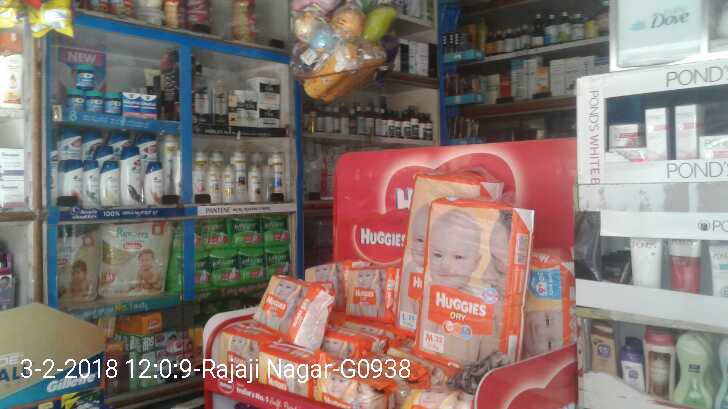beauty: (120, 144, 142, 208), (61, 157, 81, 206), (265, 151, 284, 202), (143, 161, 163, 206), (100, 159, 117, 207), (256, 75, 283, 104), (204, 159, 221, 204), (211, 88, 229, 130), (232, 163, 249, 206), (81, 164, 98, 205), (192, 164, 207, 207), (259, 103, 285, 127), (194, 91, 211, 125), (244, 92, 259, 129), (222, 161, 234, 207), (249, 164, 263, 202)
pharmacy: (100, 222, 172, 297), (56, 230, 101, 306), (263, 247, 298, 280), (209, 251, 239, 288), (197, 220, 232, 250), (228, 218, 259, 246), (240, 248, 261, 284), (260, 218, 289, 243), (63, 84, 84, 115), (74, 62, 95, 89), (102, 90, 121, 116), (121, 94, 138, 121), (140, 93, 155, 120), (85, 88, 100, 114)
